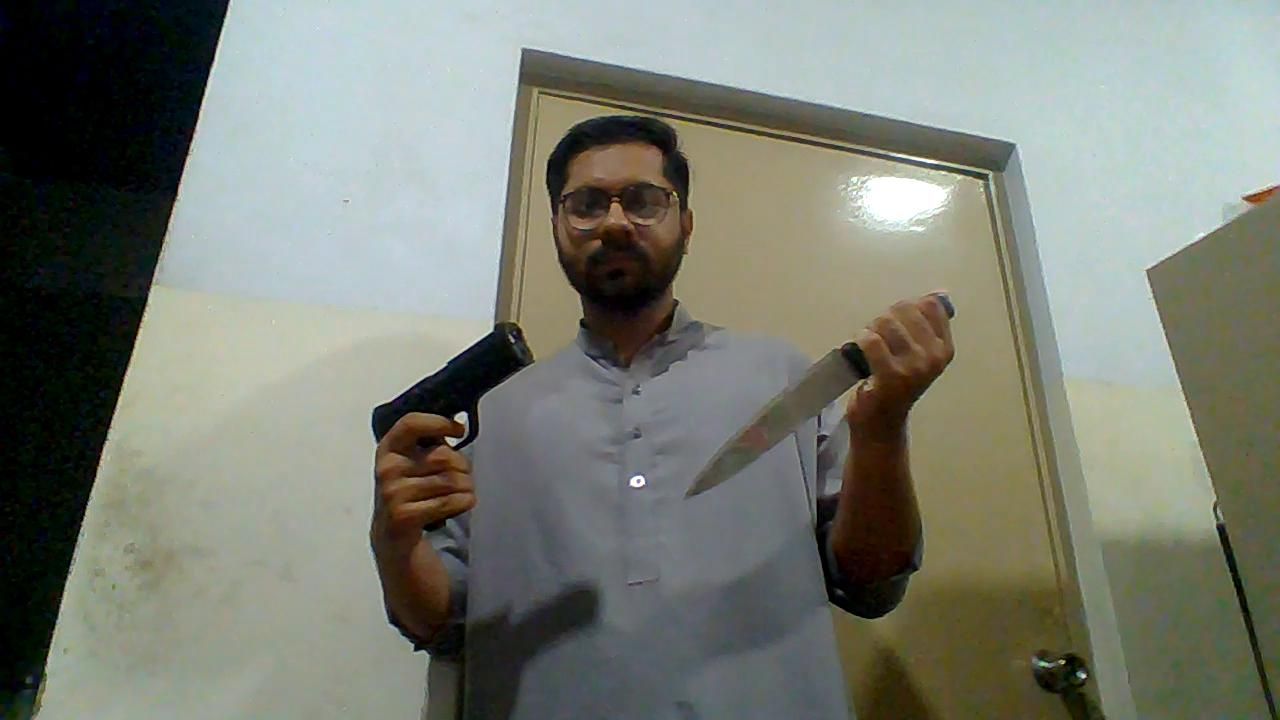criminal: (366, 113, 956, 720)
weapon: (686, 329, 877, 498), (367, 320, 534, 455)
